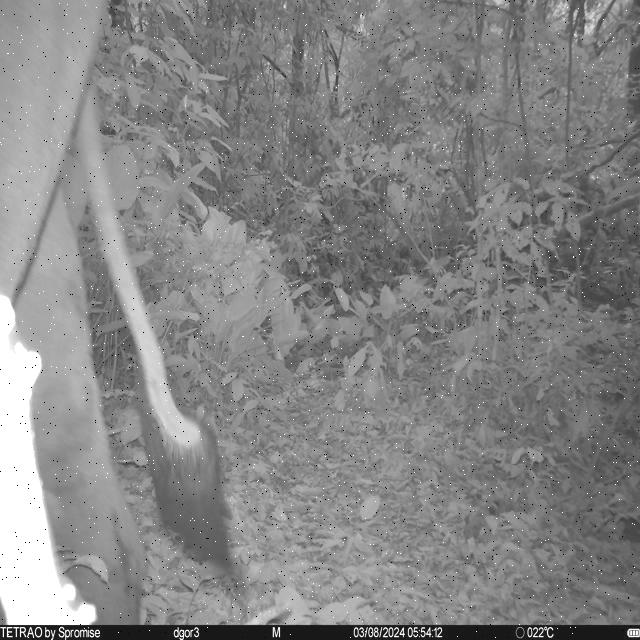elephant: (0, 0, 237, 623)
